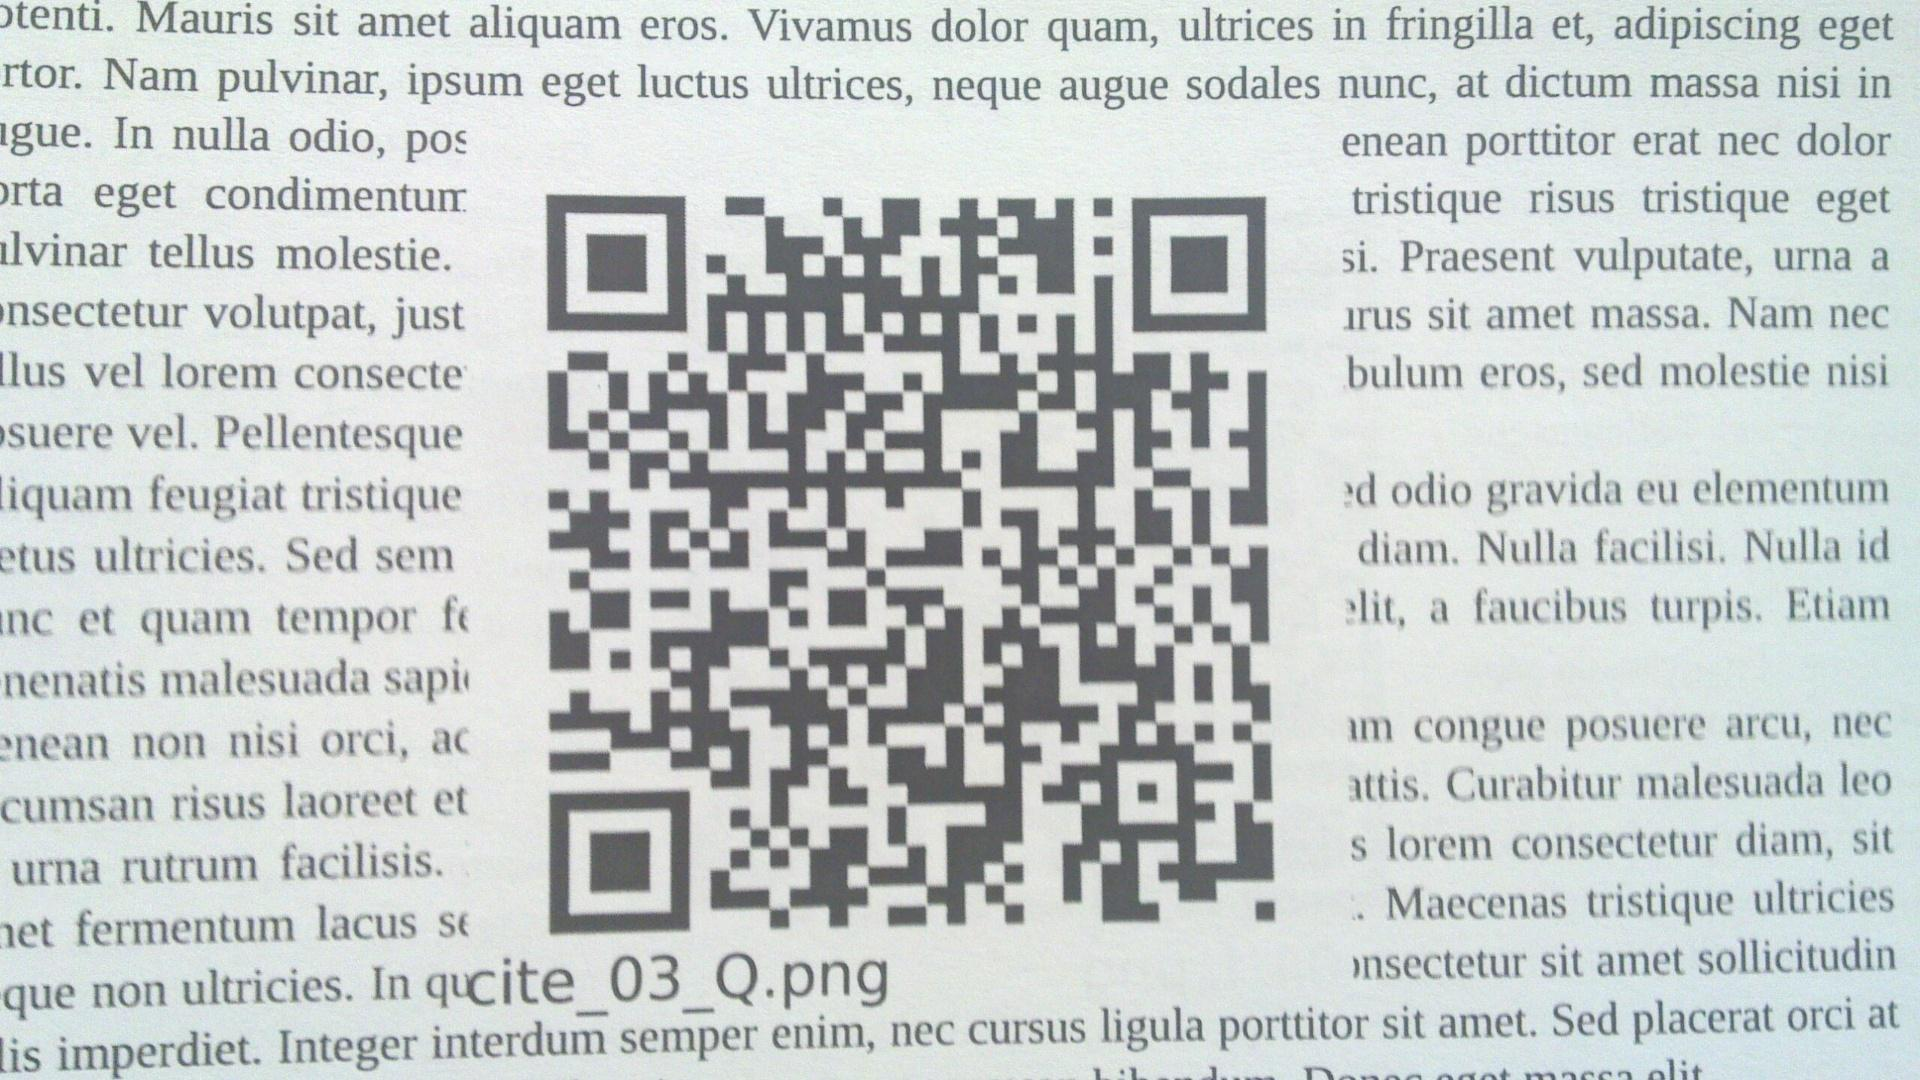Finder pattern: (545, 785, 696, 939), (541, 187, 694, 338), (1124, 193, 1275, 338)
